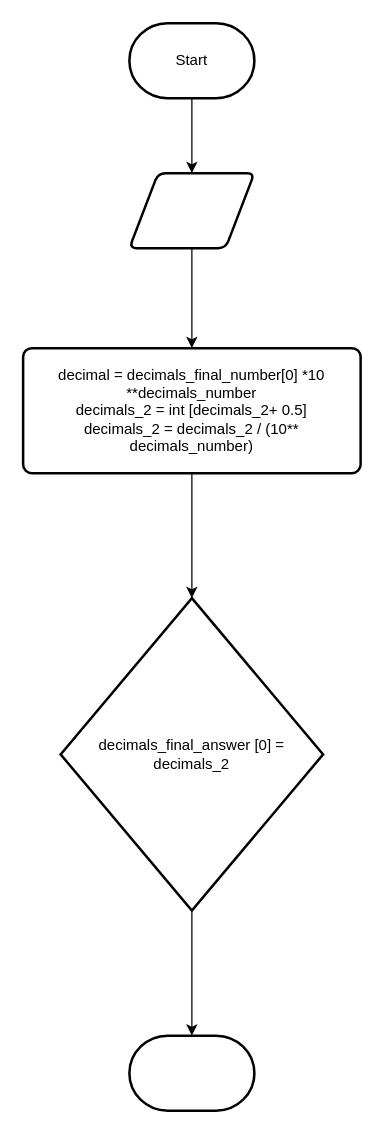
The diagram is 383 pixels wide and 1133 high, and some of its shapes have lost their labels. Here are the shapes that lost their labels. From the top down, the centre of each, then its label:
At point (191, 210): "Ask for the decimals".
At point (191, 1072): "Stop".
